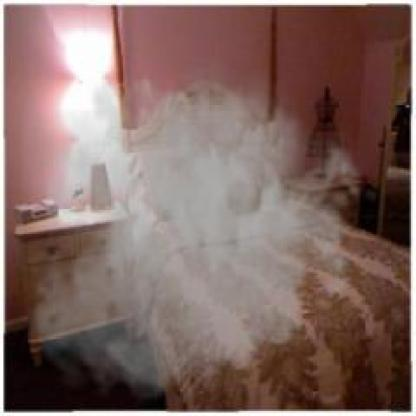Smoke: (21, 47, 374, 412)
